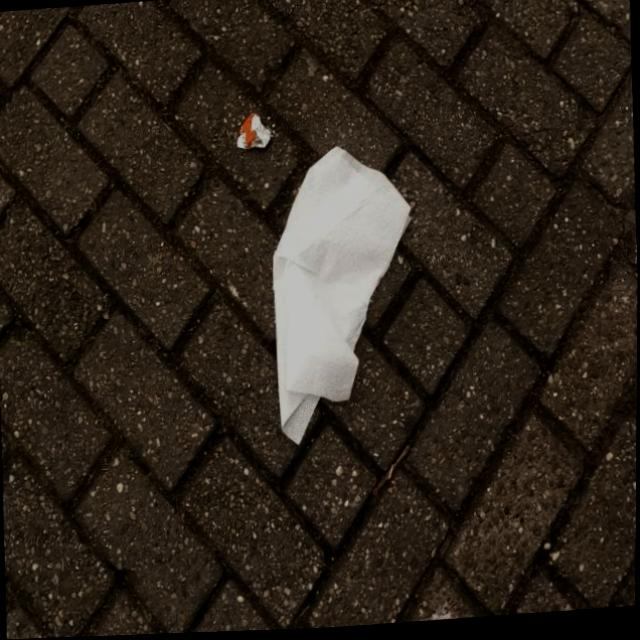Paper: (266, 146, 423, 452)
Plastic: (235, 113, 273, 153)
